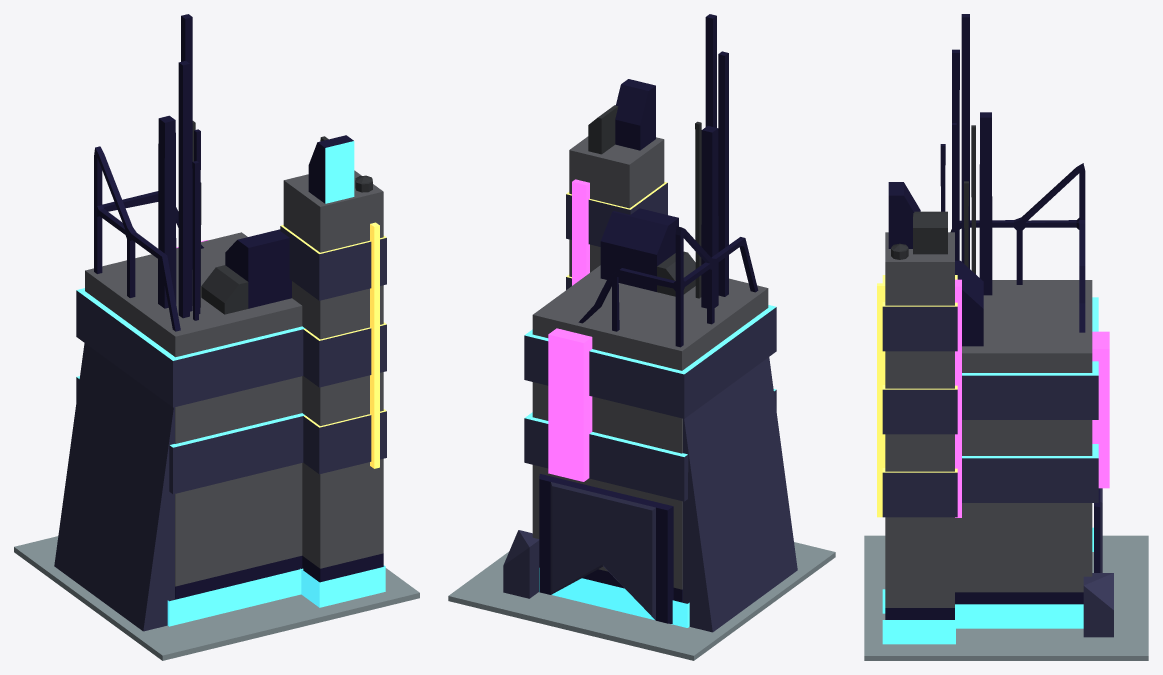
File: CityHouse1.fbx
3 renders of one model, left to right at view 1: azimuth 30°, elevation 25°; view 2: azimuth 150°, elevation 25°; view 3: azimuth 270°, elevation 25°, orthographic. The views are drawn at different scales.
Visible parts, largest first — view 1: Cube.600, Road.020; view 2: Cube.600, Road.020; view 3: Cube.600, Road.020.
Part boxes in pixels (box(x1,y1,x2,y2)): Cube.600: box(54, 14, 386, 631); Road.020: box(14, 536, 419, 660); Cube.600: box(503, 14, 797, 632); Road.020: box(448, 542, 835, 660); Cube.600: box(877, 14, 1113, 644); Road.020: box(864, 535, 1148, 660).
Bounding box in the file's own units: 400 × 871 × 400.
